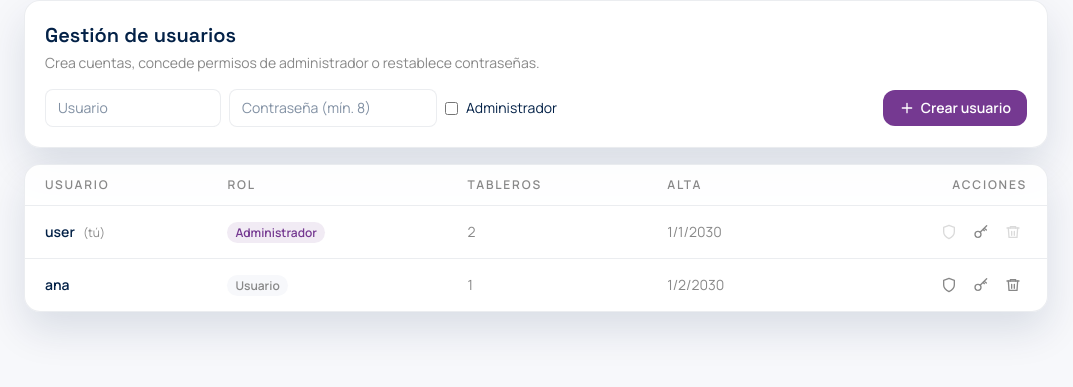
UsersAdmin › toggles administrator permissions
Expected: the row with test id "user-ana" is shown, [25,258,1047,311]
Click the button named "Hacer administrador a ana". click: [949, 285]
box: [935,271,963,299]
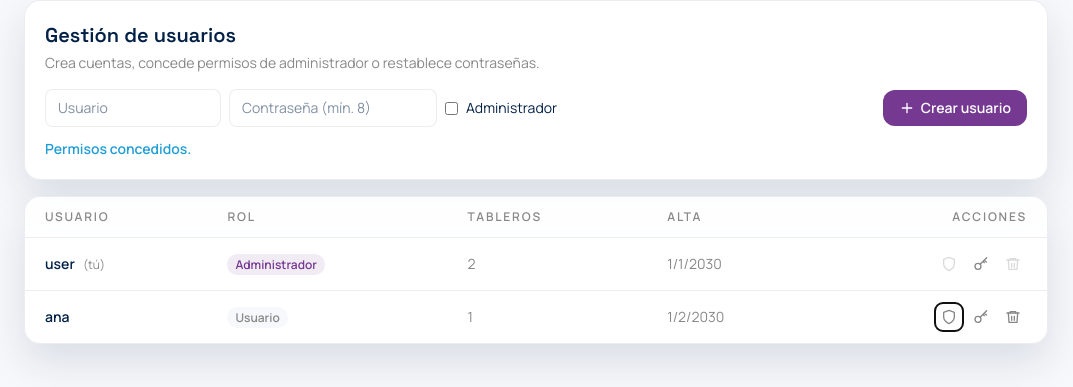
Expected: the message reads "Permisos concedidos.", [45,139,191,158]
